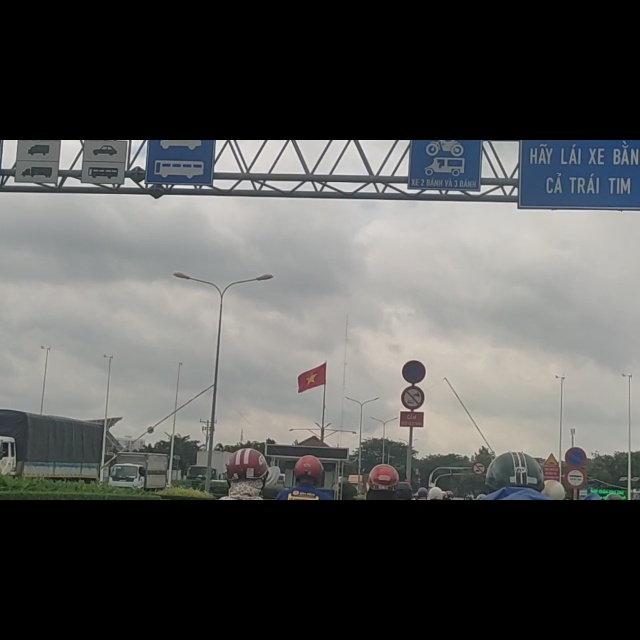bien_cam: (401, 391, 427, 433), (401, 436, 425, 479), (565, 545, 587, 583), (565, 582, 587, 619), (471, 571, 487, 594), (545, 556, 559, 577)
